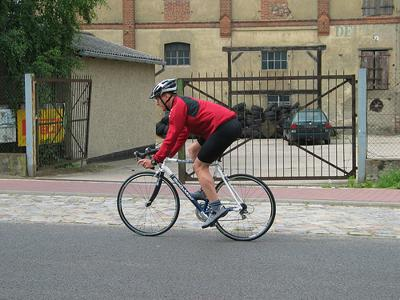person: (138, 77, 242, 230)
